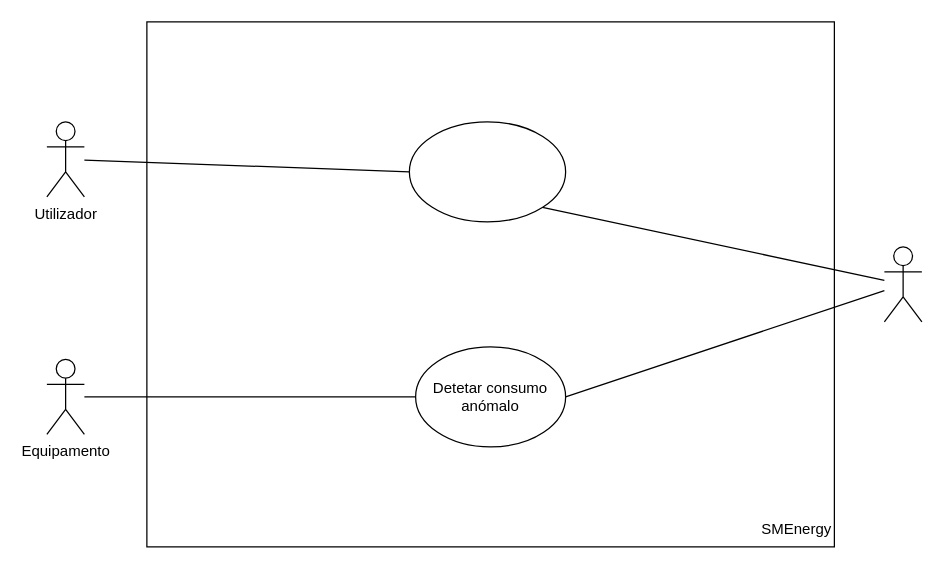
Some shapes in this 951 by 570 pixel diagram are drawn without their labels. The centre of each missing label's shape, as x and y in pixels:
"Enviar notificações ao Utilizador" goes at pixel 487 171.
"Sistema" goes at pixel 902 284.
